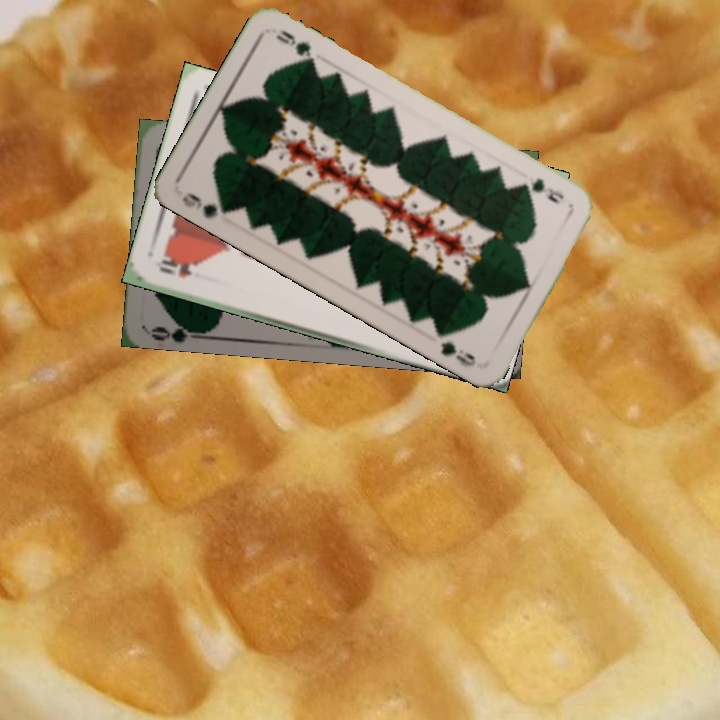G9: (178, 188, 235, 222), (517, 172, 567, 207)
GO: (147, 315, 206, 343)
HO: (152, 256, 195, 281)
